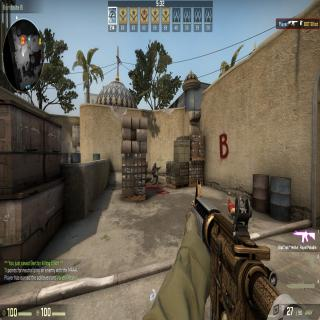T-Body: (151, 160, 158, 184)
T-Head: (153, 162, 157, 166)
